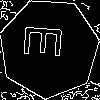E: (24, 23, 71, 60)
